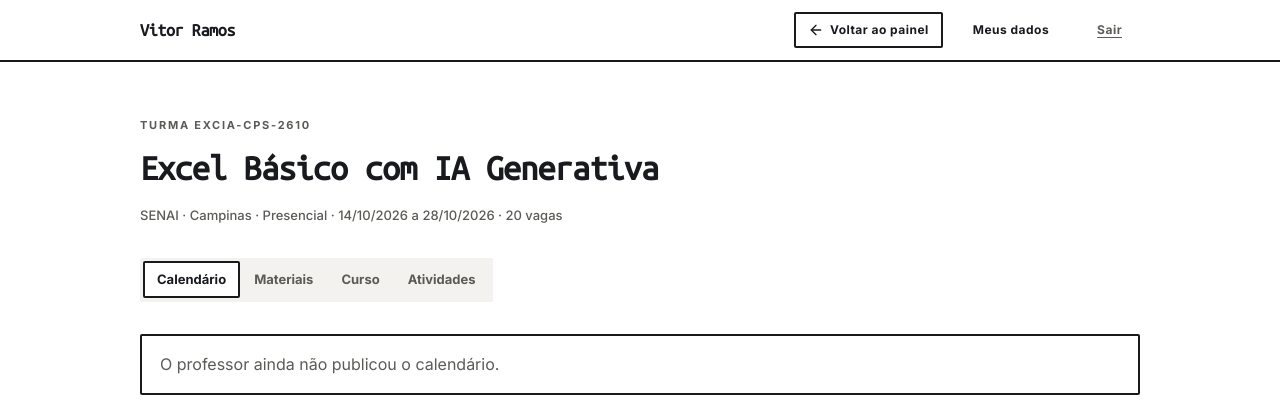
Turma do aluno › mostra os estados vazios com o texto do PRD
Expected: the text "O professor ainda não publicou o calendário." is shown, [160, 354, 499, 374]
Click the tab "Materiais": (284, 280) [240, 261, 327, 298]
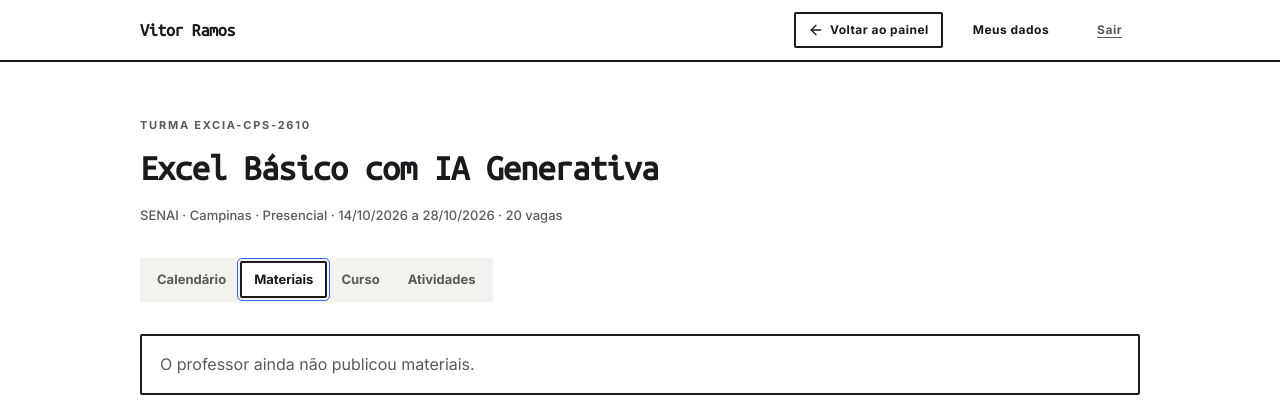
Expected: the text "O professor ainda não publicou materiais." is shown, [160, 354, 475, 374]
